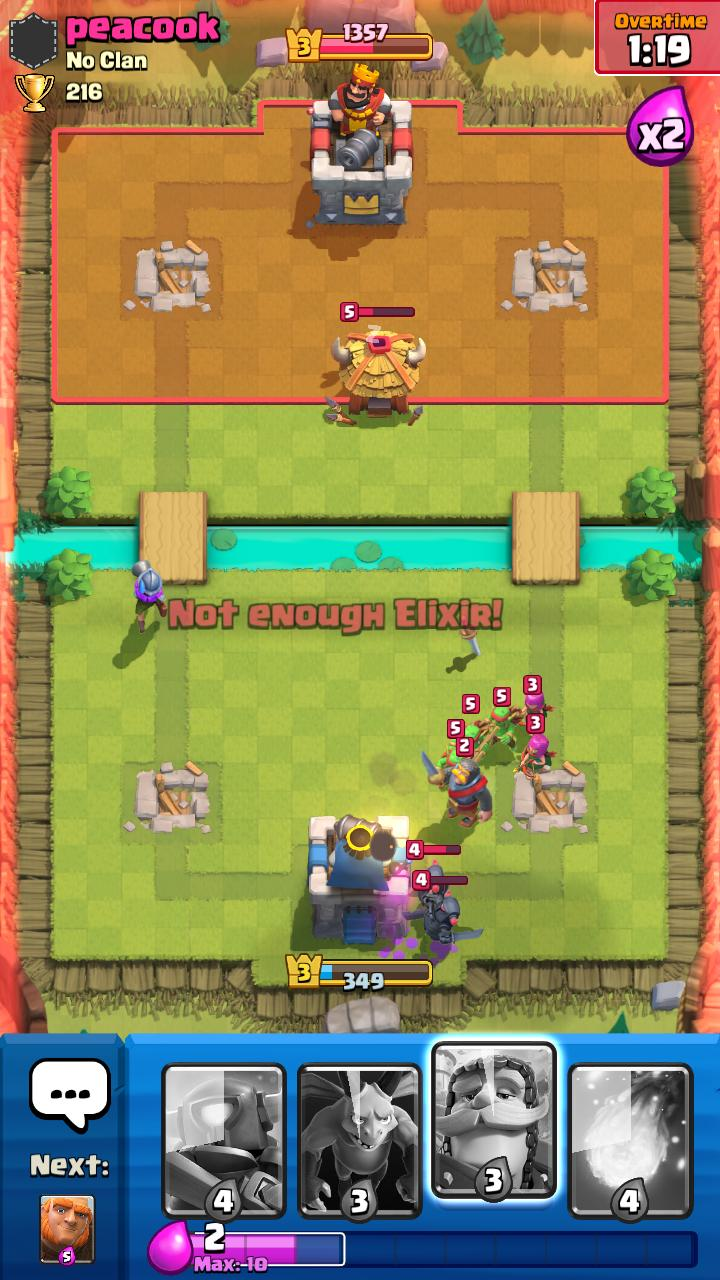ally: (131, 560, 168, 633)
enemy: (324, 302, 427, 426), (421, 749, 493, 827), (412, 870, 484, 945), (401, 840, 461, 920), (449, 694, 501, 760), (437, 719, 486, 789), (513, 713, 557, 779), (487, 687, 528, 752), (519, 675, 555, 736)
